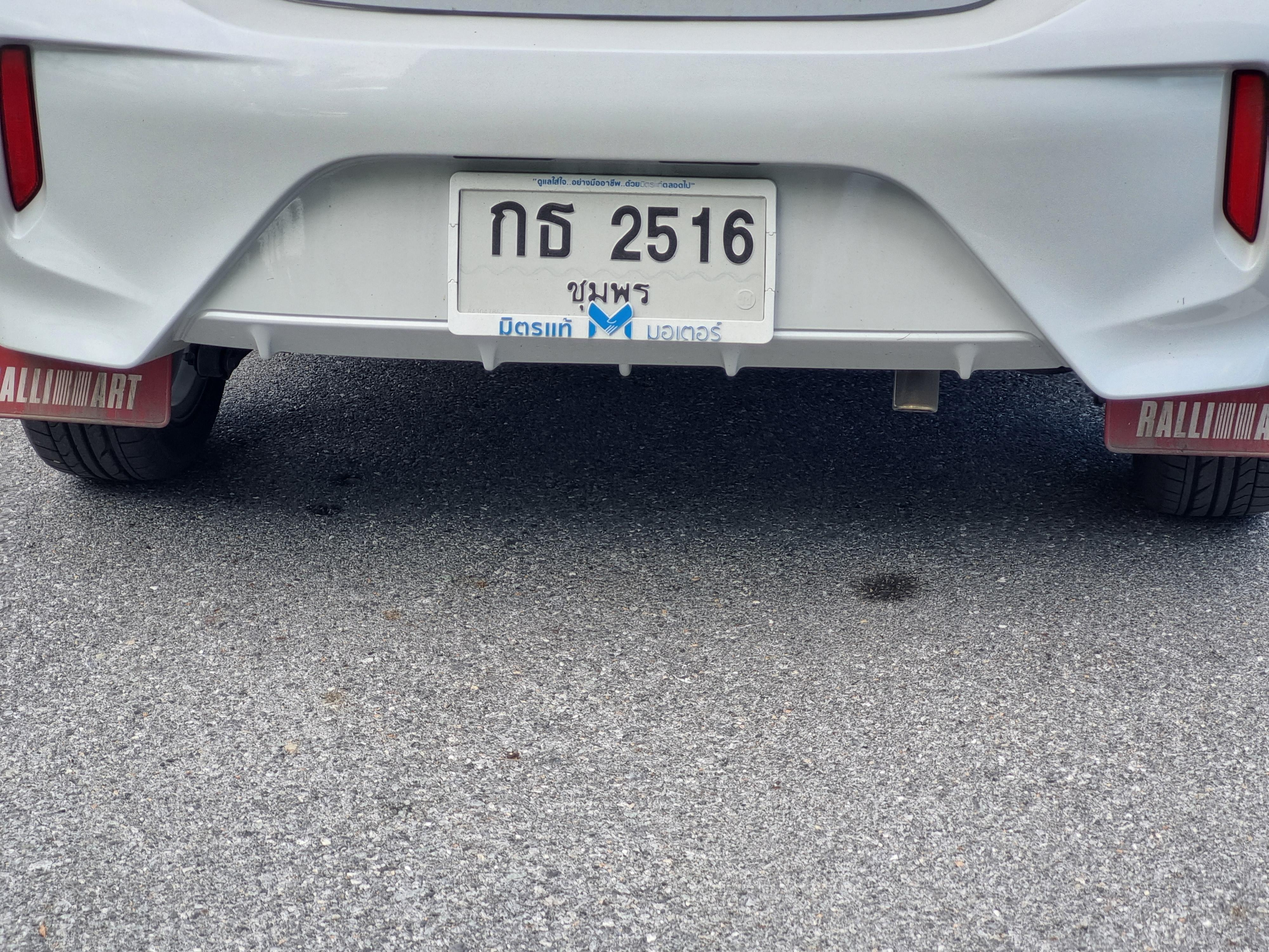license-plate: (445, 160, 784, 351)
